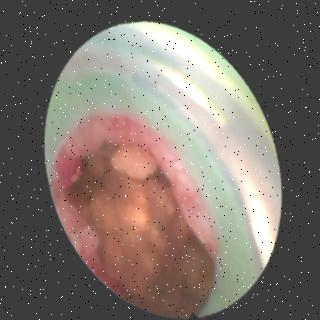stone: (68, 140, 205, 313)
